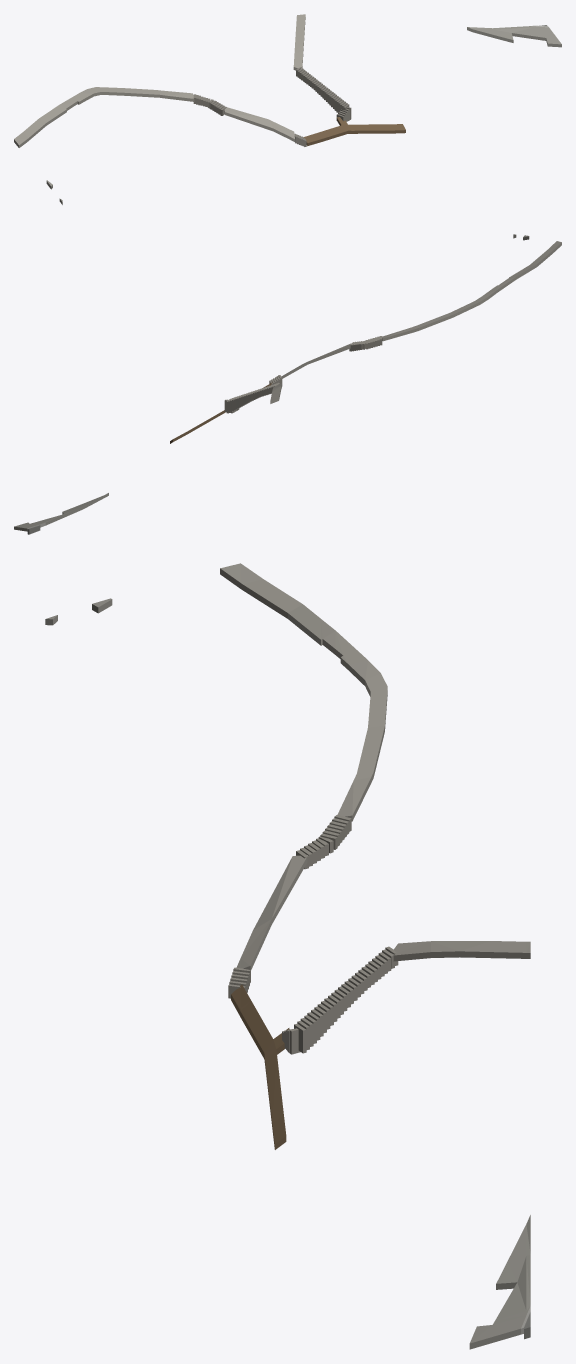
The picture shows the model from 3 angles, top to bottom: view 1: azimuth 30°, elevation 25°; view 2: azimuth 210°, elevation 25°; view 3: azimuth 270°, elevation 25°; orthographic projection. The views are drawn at different scales.
Size of the model in its own units: 147 by 22.71 by 50.92.
